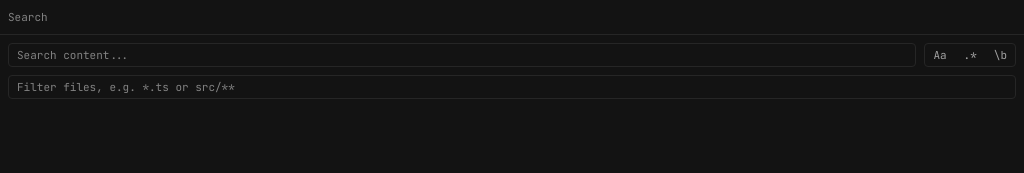
Scenario: SearchPanel › Peek preview wiring › a query that shrinks results to zero clears peekFile
Type "abc" into the field with placeholder "Search content..." at (462, 55), box x1=8 y1=43 x2=916 y2=67
Wait 200 ms
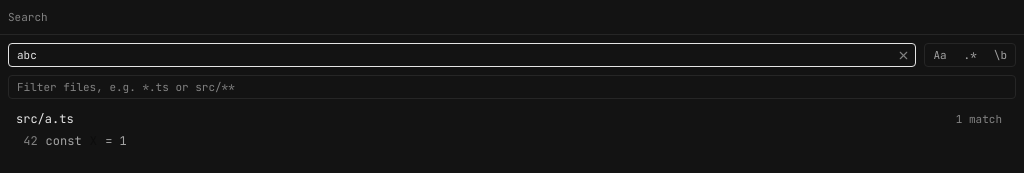
Now the text "src/a.ts" is shown, box x1=16 y1=111 x2=74 y2=127
Press Enter in the field with placeholder "Search content...", box x1=8 y1=43 x2=916 y2=67
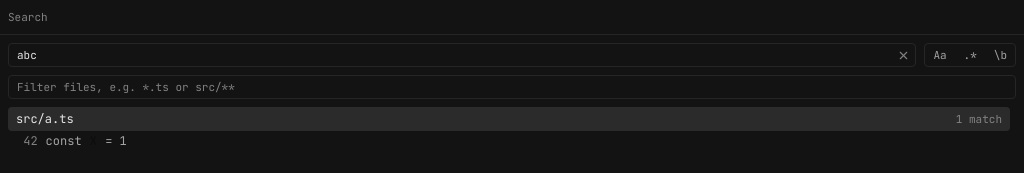
Press ArrowDown in the element with class "search-panel__results-list", box x1=8 y1=107 x2=1010 y2=151
Type "d" into the field with placeholder "Search content..." at (462, 55), box x1=8 y1=43 x2=916 y2=67
Wait 500 ms
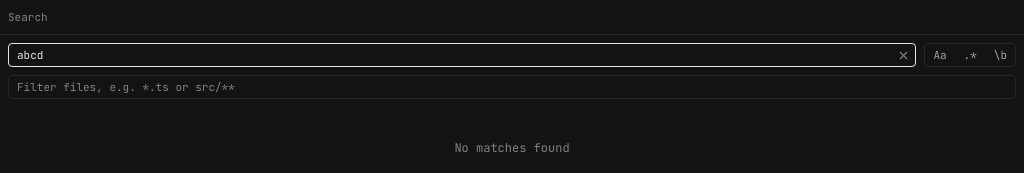
Now the text "No matches found" is shown, box x1=454 y1=140 x2=570 y2=156
